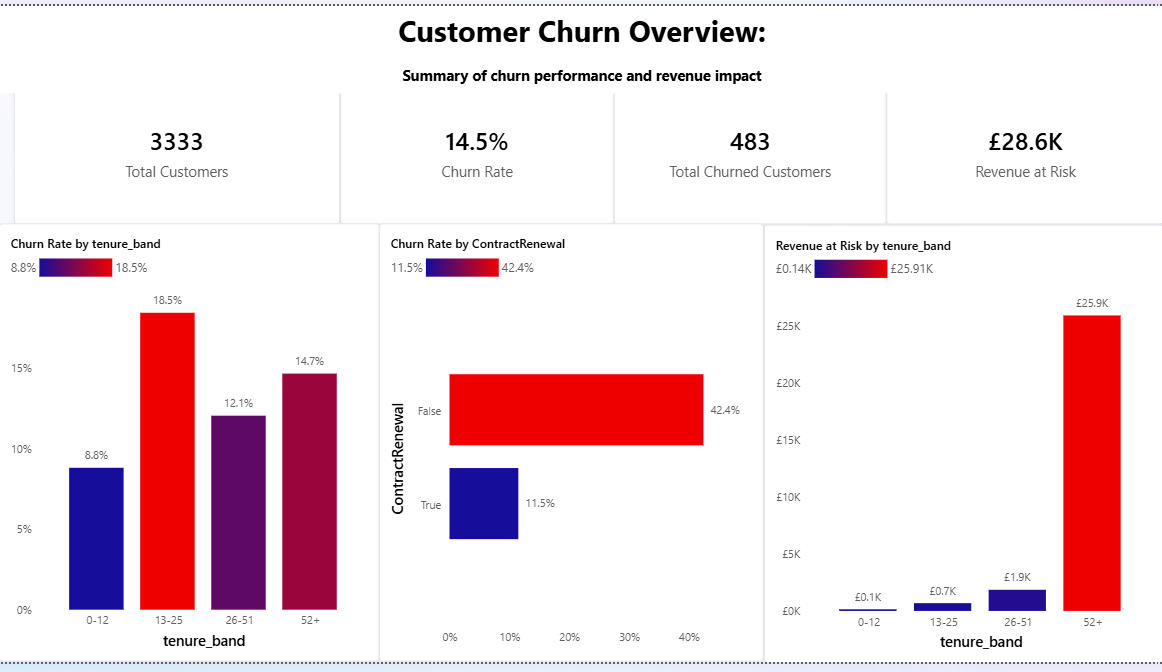

Layout of this report page (visuals, bound fields, positions):
{"tool":"powerbi","page":{"name":"Customer Churn Overview","canvas":[1280,720],"ordinal":0},"visuals":[{"type":"card","fields":{"Values":["churn_cleaned.Churn Rate"]},"box":[374.4,79.4,301,160.2],"z":0},{"type":"card","fields":{"Values":["churn_cleaned.Total Customers"]},"box":[16.5,79.4,357.9,160.2],"z":1000},{"type":"card","fields":{"Values":["churn_cleaned.Total Churned Customers"]},"box":[675.3,79.4,299.5,160.2],"z":2000},{"type":"card","fields":{"Values":["churn_cleaned.Revenue at Risk"]},"box":[974.8,79.4,305.5,160.2],"z":3000},{"type":"textbox","box":[0,0,1280,96],"z":4000},{"type":"clusteredColumnChart","fields":{"Y":["churn_cleaned.Churn Rate"],"Category":["churn_cleaned.tenure_band"]},"box":[0,239.3,417.8,480.7],"z":5000},{"type":"clusteredBarChart","fields":{"Y":["churn_cleaned.Churn Rate"],"Category":["churn_cleaned.ContractRenewal"]},"box":[417.8,239.3,422.3,480.7],"z":6000},{"type":"clusteredColumnChart","fields":{"Y":["churn_cleaned.Revenue at Risk"],"Category":["churn_cleaned.tenure_band"]},"box":[840.1,239.6,440.2,480.7],"z":7000}]}

Visuals, with their boxes in screenshot pixels (x1, y1, x2, y2), scaled from the page's 1280x720 canvas onto the 1162x672 screenshot:
card - churn_cleaned.Churn Rate: crop(340, 74, 613, 224)
card - churn_cleaned.Total Customers: crop(15, 74, 340, 224)
card - churn_cleaned.Total Churned Customers: crop(613, 74, 885, 224)
card - churn_cleaned.Revenue at Risk: crop(885, 74, 1161, 224)
textbox: crop(0, 0, 1161, 90)
clusteredColumnChart - churn_cleaned.Churn Rate x churn_cleaned.tenure_band: crop(0, 223, 379, 671)
clusteredBarChart - churn_cleaned.Churn Rate x churn_cleaned.ContractRenewal: crop(379, 223, 763, 671)
clusteredColumnChart - churn_cleaned.Revenue at Risk x churn_cleaned.tenure_band: crop(763, 224, 1161, 671)
